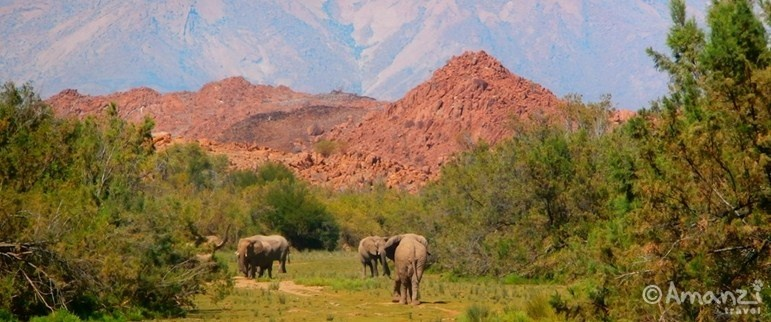elephant: (410, 267, 456, 322), (262, 258, 313, 300), (372, 254, 413, 291)
